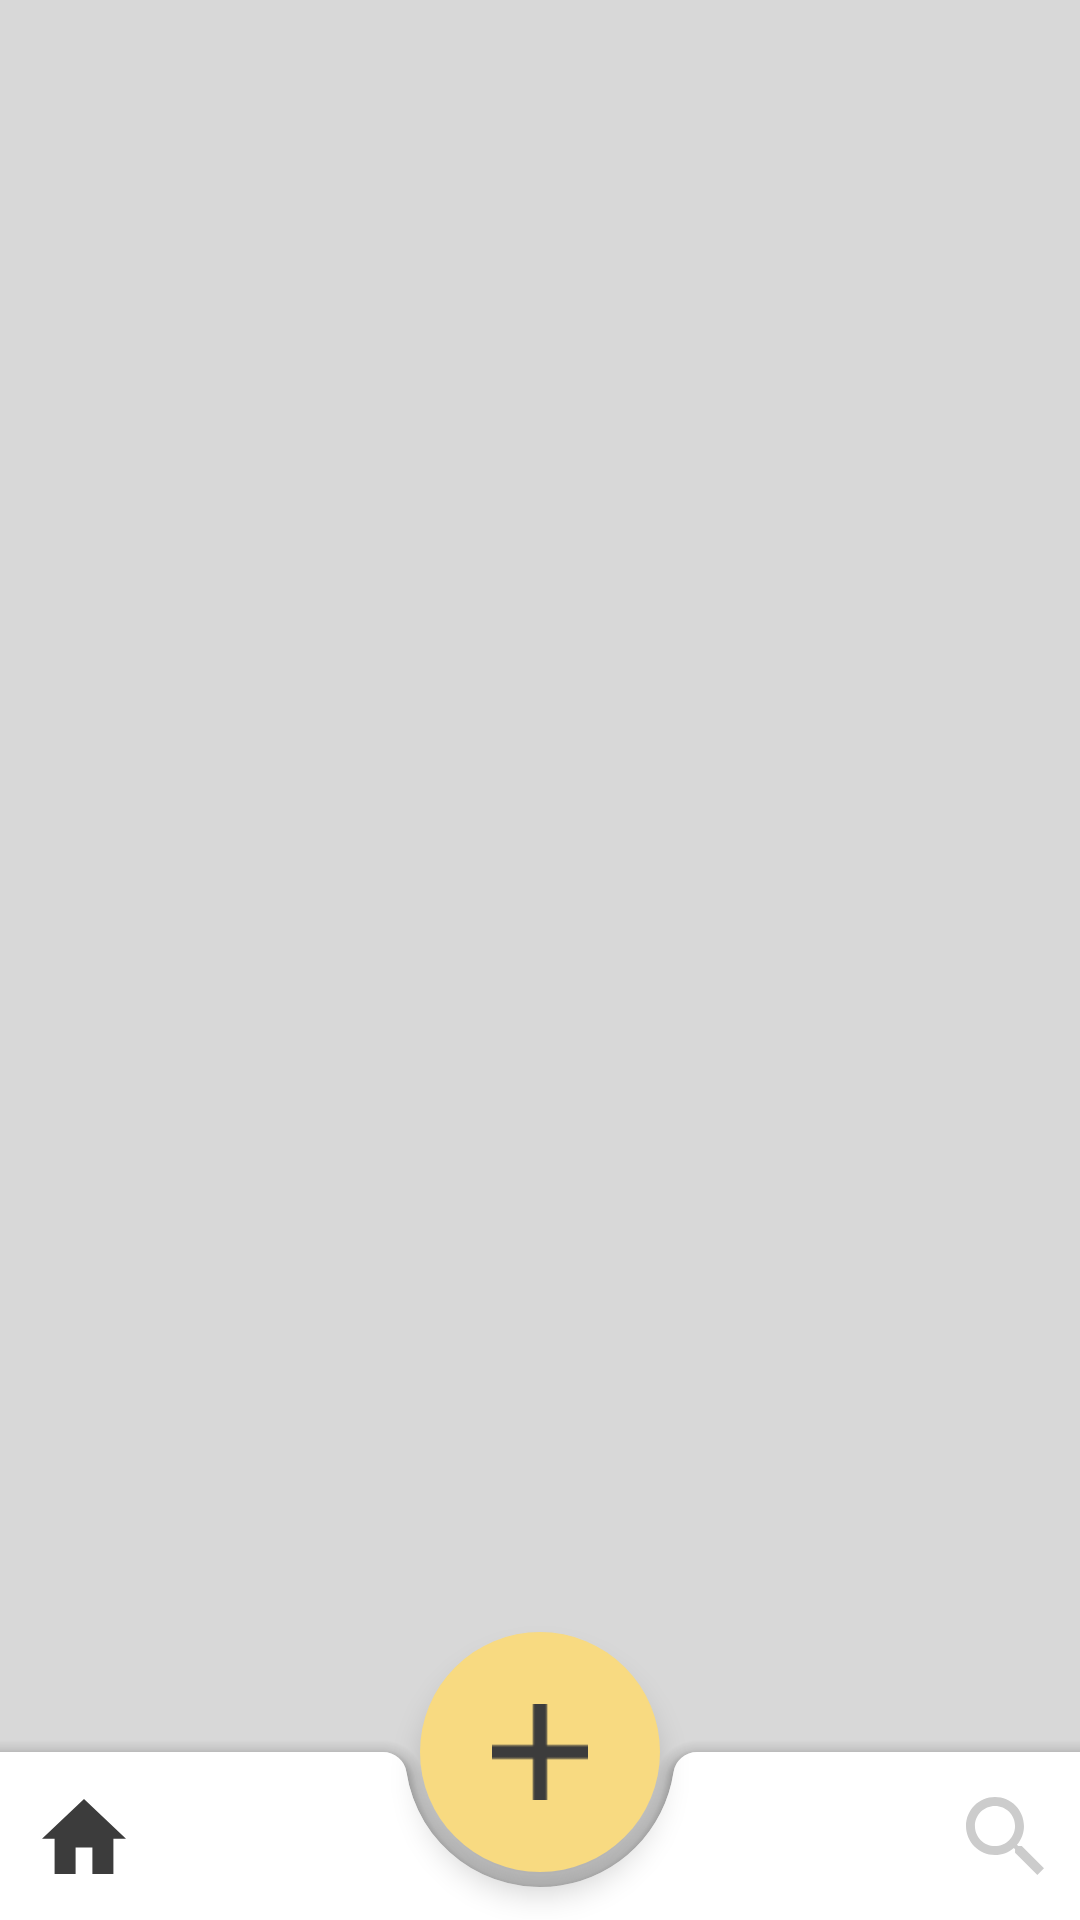

Point at icon controls on the screen. Image size 1080x1920, points as (x,y).
add: (540,1752)
